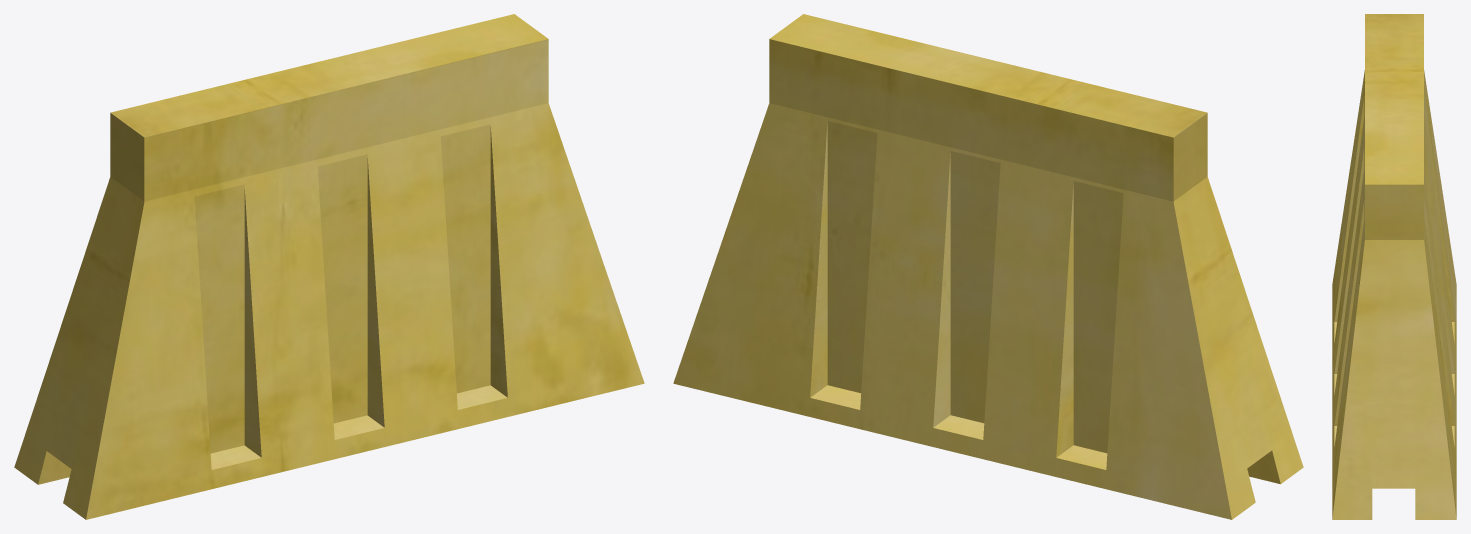
The model's file is Barreira de tráfego 01 - 1.fbx.
3 renders of one model, left to right at view 1: azimuth 30°, elevation 25°; view 2: azimuth 150°, elevation 25°; view 3: azimuth 270°, elevation 25°, orthographic. The views are drawn at different scales.
Parts seen in each view (by area): view 1: Plano.218; view 2: Plano.218; view 3: Plano.218.
Part boxes in pixels (x1,y1,x2,y2): Plano.218: (14,14,644,519); Plano.218: (673,14,1303,519); Plano.218: (1332,14,1456,519).
Bounding box in the file's own units: 263 × 158 × 58.59.
1 material, 1 textured.
